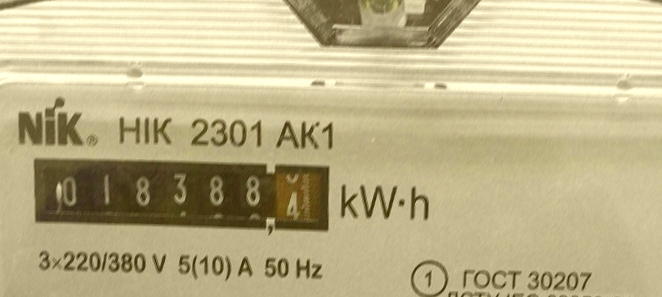0: (59, 172, 81, 209)
1: (97, 169, 117, 206)
3: (170, 170, 192, 206)
4: (283, 187, 304, 221)
8: (132, 171, 155, 208), (242, 171, 265, 208), (206, 173, 228, 208)
screen: (23, 142, 345, 247)
